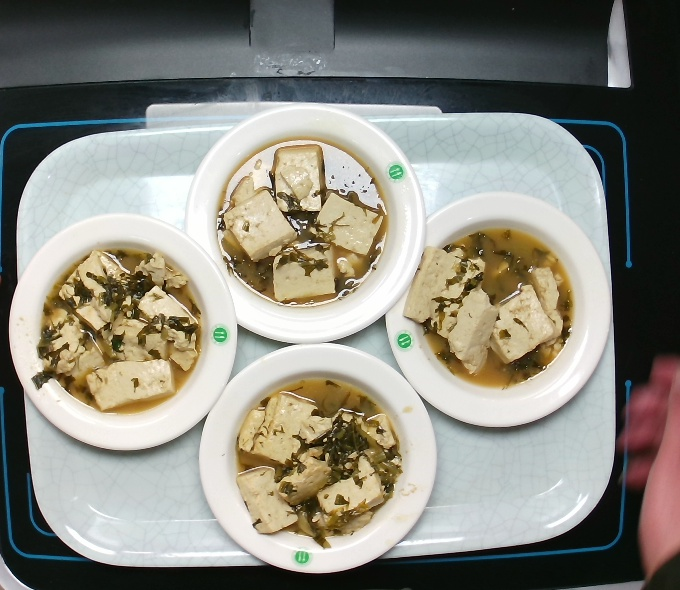wcq-XueCaiDouFu: (27, 239, 210, 418), (211, 132, 391, 311), (231, 369, 406, 549), (400, 220, 577, 392)
